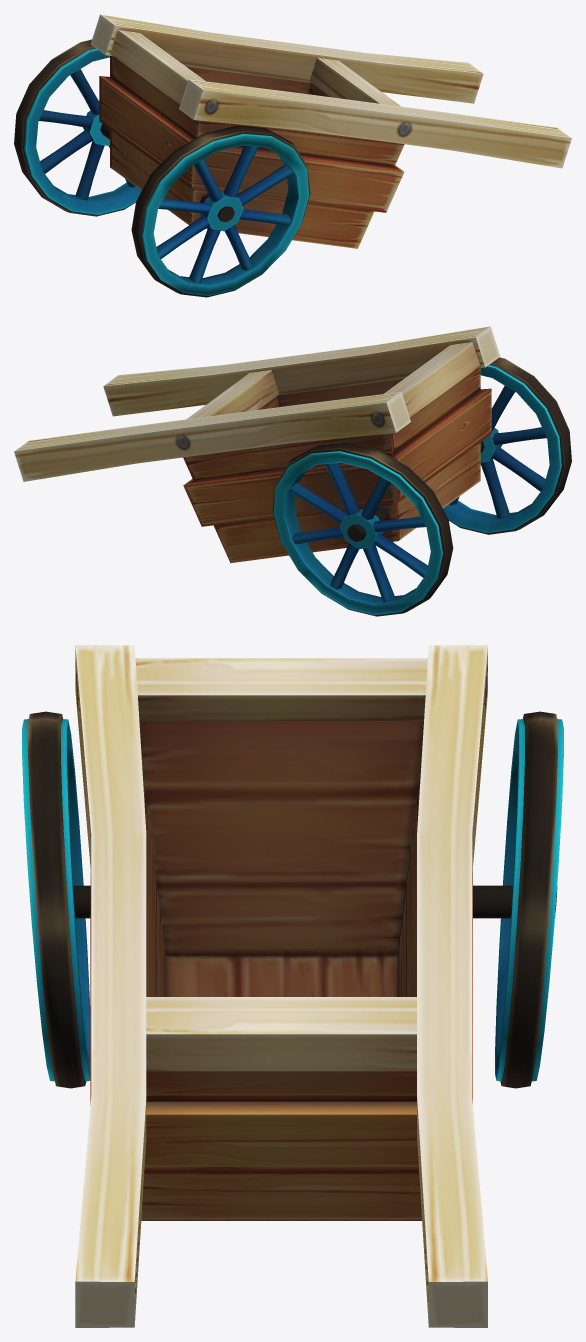
Rendered from SE_Cart_01.fbx.
The picture shows the model from 3 angles, top to bottom: view 1: azimuth 30°, elevation 25°; view 2: azimuth 150°, elevation 25°; view 3: azimuth 270°, elevation 25°; orthographic projection. The views are drawn at different scales.
Visible parts, largest first — view 1: SE_Cart_01; view 2: SE_Cart_01; view 3: SE_Cart_01.
Boxes of the visible parts, left/top/right/bottom form: SE_Cart_01: left=14, top=14, right=571, bottom=297; SE_Cart_01: left=14, top=326, right=571, bottom=616; SE_Cart_01: left=22, top=645, right=563, bottom=1327.
Bounding box in the file's own units: 8.29 × 3.72 × 4.4.
